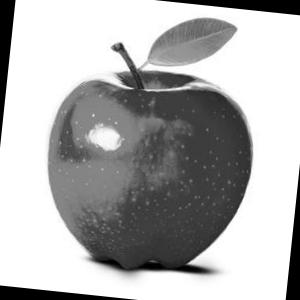fruit: (25, 48, 266, 278)
